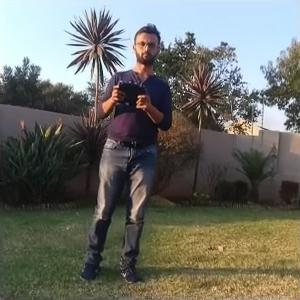follow: (74, 18, 178, 284)
